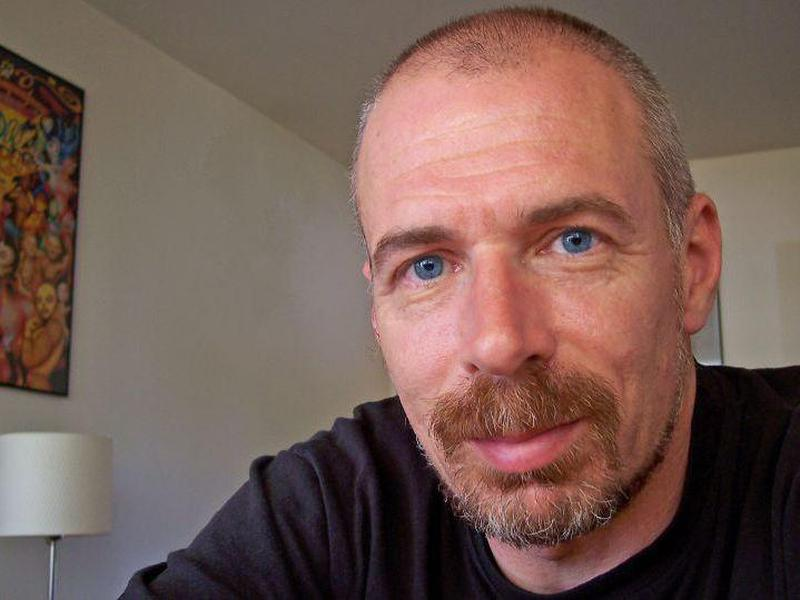person: (139, 8, 799, 600)
